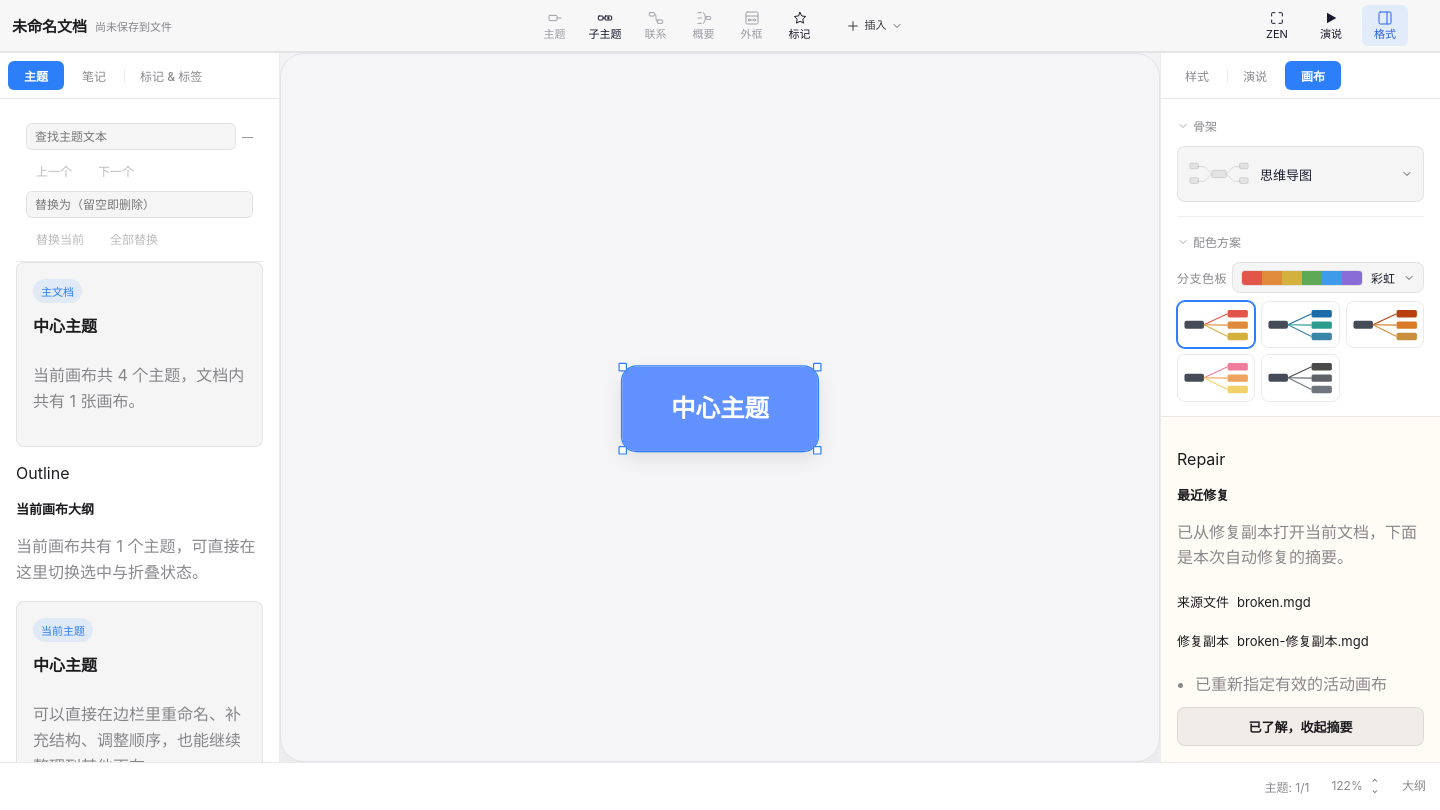
Test case: dismisses the repair summary after confirmation
Click the button "已了解，收起摘要": coordinates (1300, 726) x1=1177 y1=707 x2=1424 y2=746
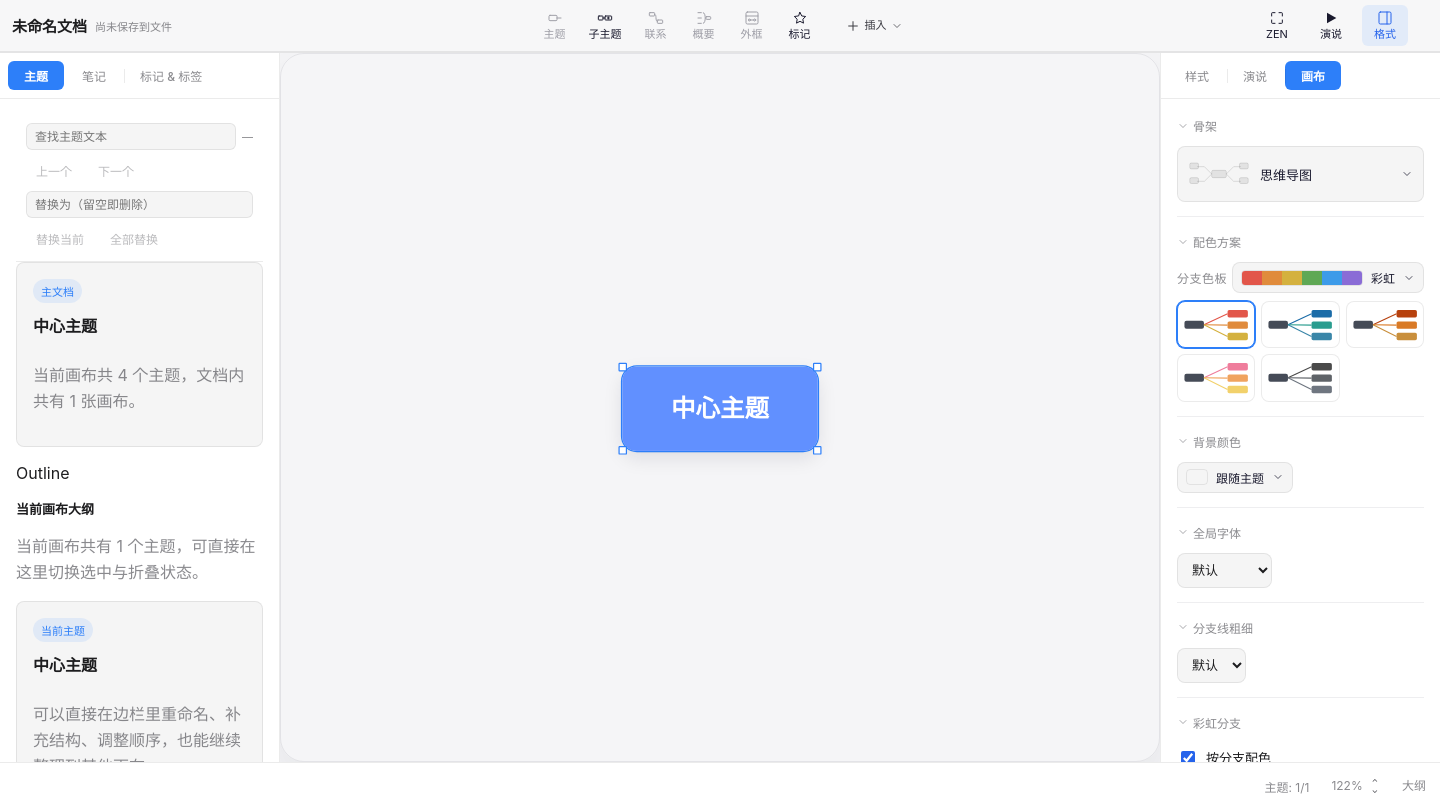
Now the heading "最近修复" is gone
